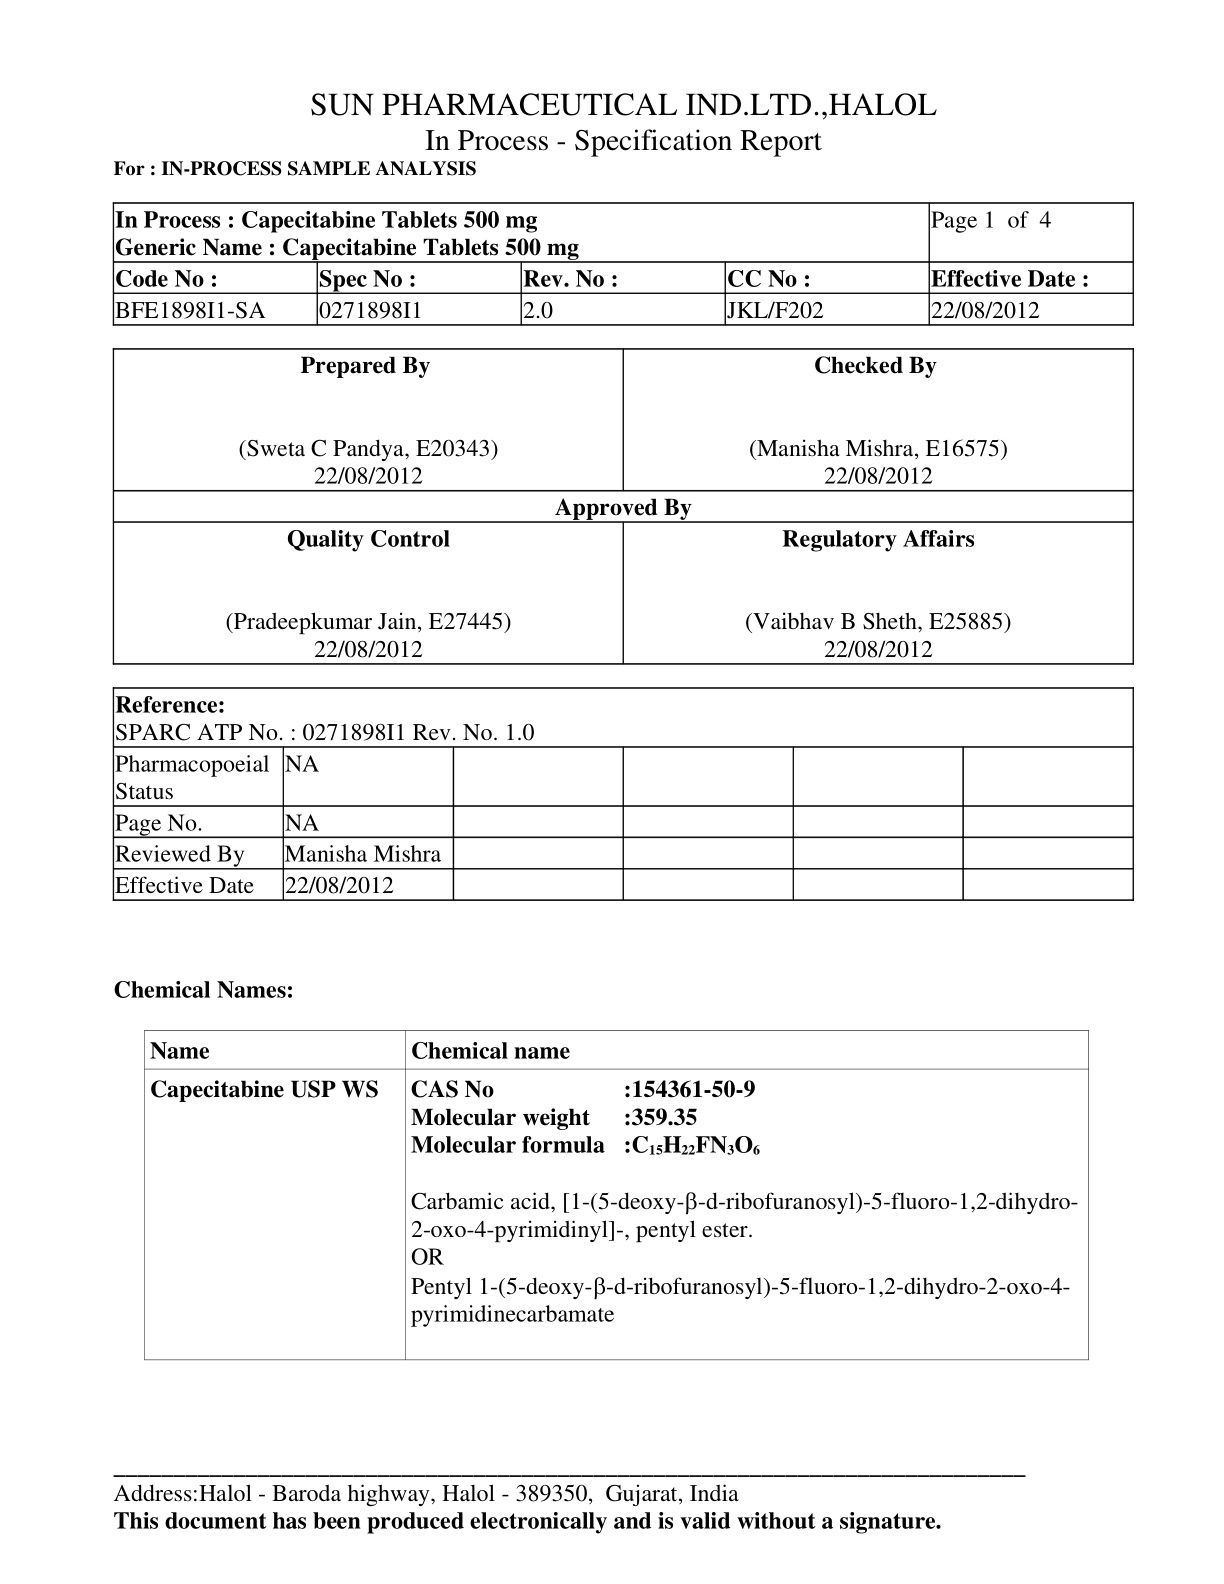full_lined: (141, 1029, 1090, 1362)
merged_cells: (112, 347, 1135, 665), (112, 687, 1135, 903), (111, 201, 1135, 327)
